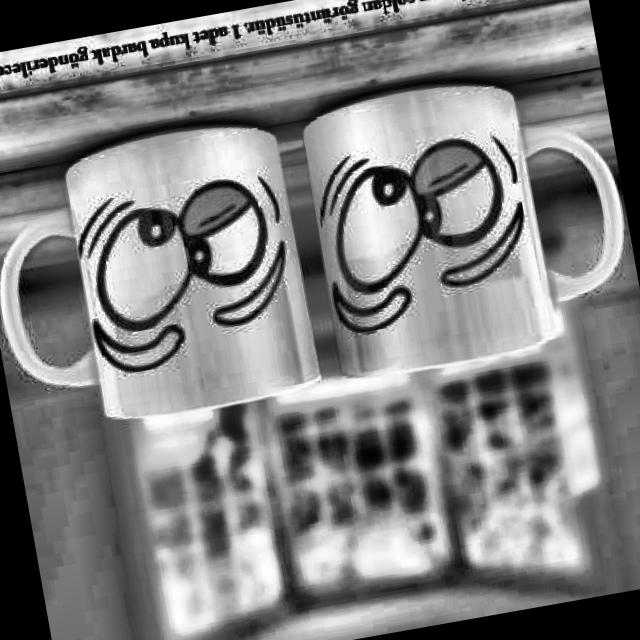Mug: (295, 51, 640, 384), (0, 92, 324, 442)
